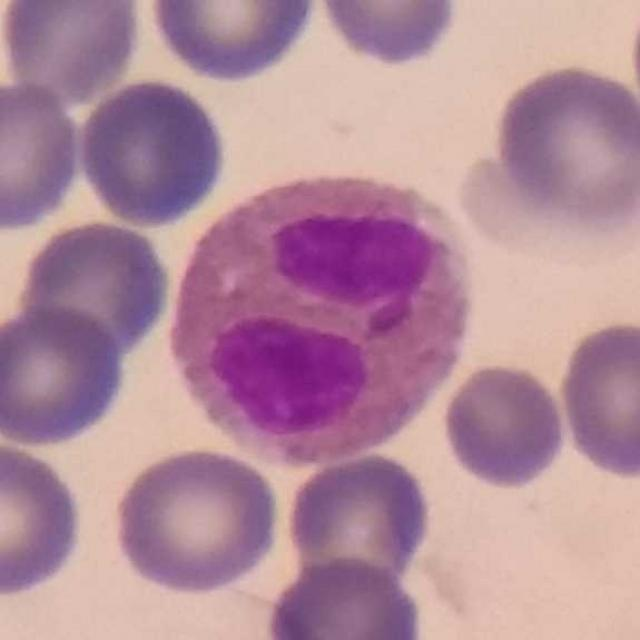Eosinophil: (164, 159, 484, 473)
RBC: (486, 58, 638, 240), (108, 442, 285, 598), (72, 74, 230, 230), (13, 216, 175, 362), (452, 137, 638, 264), (280, 447, 436, 591), (1, 300, 133, 451), (439, 358, 571, 492), (144, 0, 322, 86), (0, 0, 147, 102), (262, 551, 429, 640), (0, 435, 88, 602), (554, 315, 640, 483), (0, 75, 86, 234), (313, 0, 464, 70)
